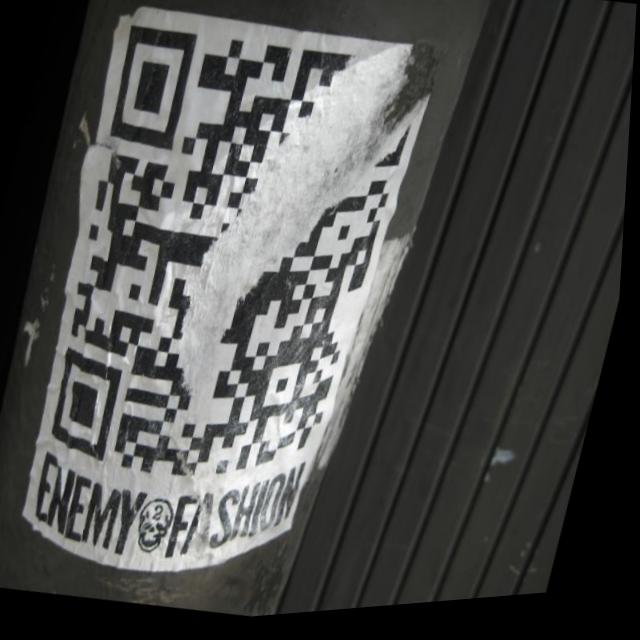qrcode: (27, 9, 437, 521)
